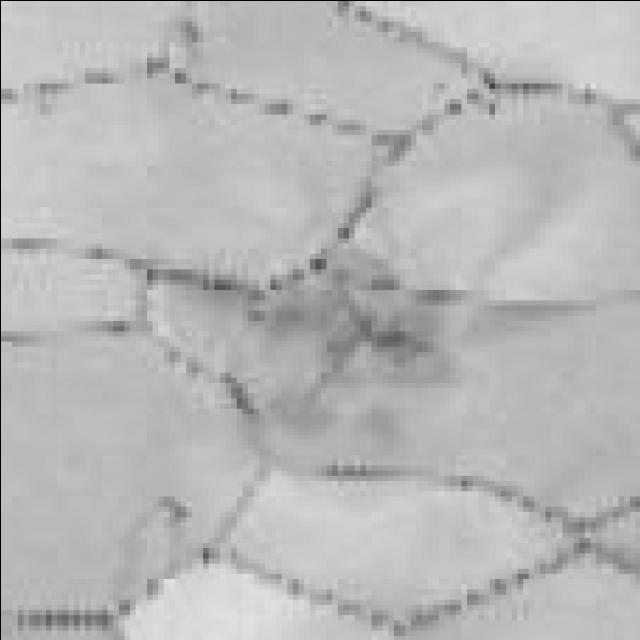good_void: (254, 274, 438, 373)
